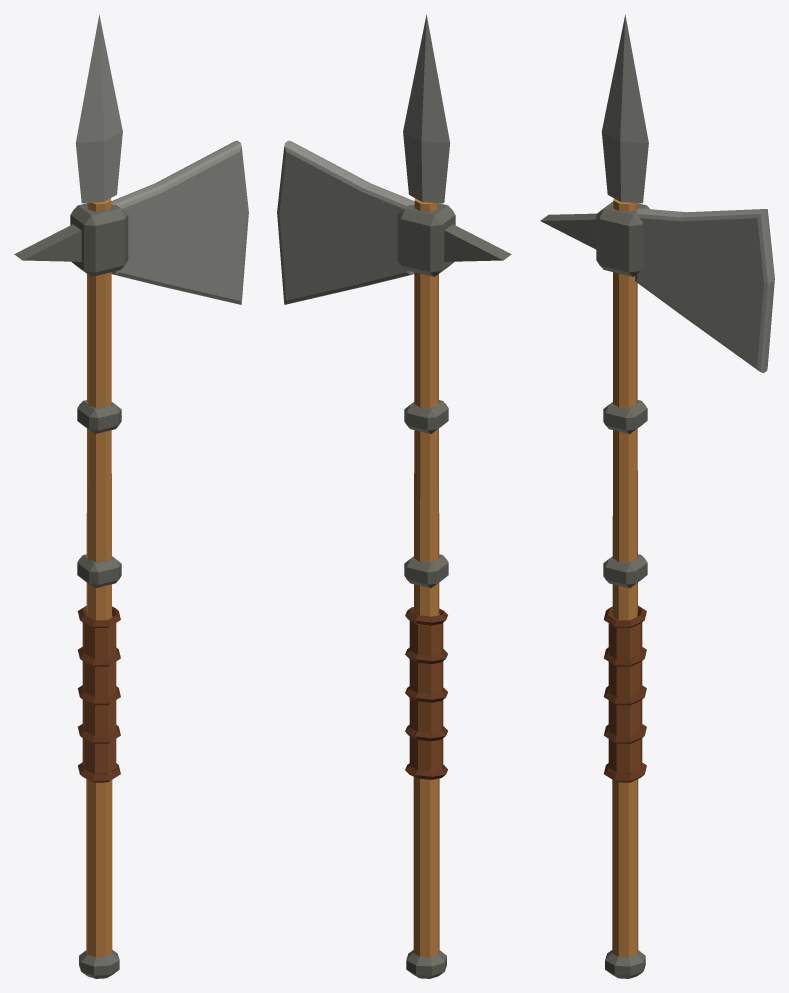
File: StoneHalberd.fbx
3 views of the same model, side by side, from view 1: azimuth 30°, elevation 25°; view 2: azimuth 150°, elevation 25°; view 3: azimuth 330°, elevation 25° (orthographic).
Visible parts, largest first — view 1: StoneHalberd; view 2: StoneHalberd; view 3: StoneHalberd.
Part boxes in pixels (x1,y1,x2,y2): StoneHalberd: (14, 15, 248, 978); StoneHalberd: (277, 15, 511, 978); StoneHalberd: (540, 15, 774, 978).
Size of the model in its own units: 1.55 by 6.22 by 0.2614.
Materials: 1 (1 with a texture image).
